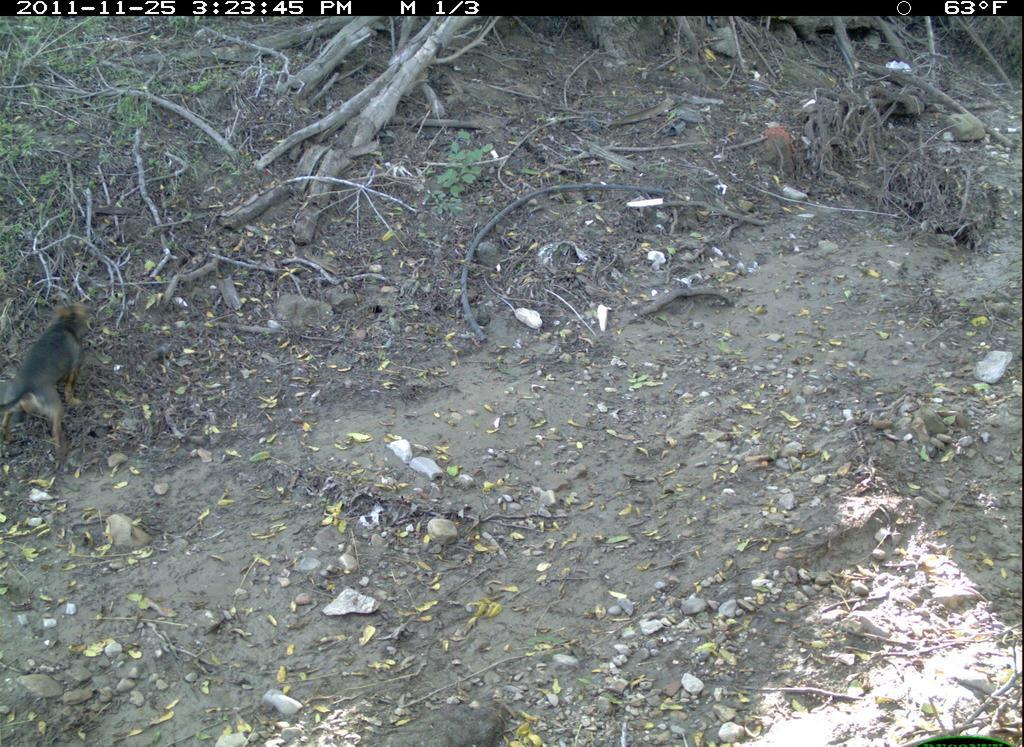dog: (2, 306, 143, 477)
